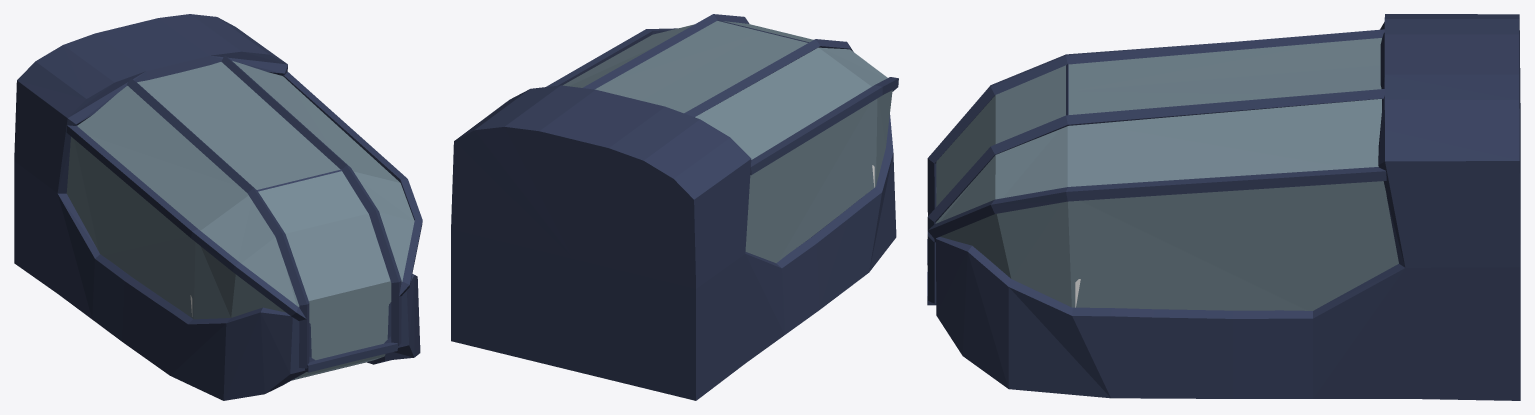
The model's file is cockpit4.glb.
3 views of the same model, side by side, from view 1: azimuth 30°, elevation 25°; view 2: azimuth 150°, elevation 25°; view 3: azimuth 270°, elevation 25° (orthographic). The views are drawn at different scales.
Visible parts, largest first — view 1: Group1.002, Group.002; view 2: Group.002, Group1.002; view 3: Group.002, Group1.002.
Part boxes in pixels (x1,y1,x2,y2): Group1.002: [66, 61, 414, 380]; Group.002: [14, 14, 422, 400]; Group.002: [451, 14, 898, 400]; Group1.002: [562, 21, 892, 262]; Group.002: [927, 14, 1520, 400]; Group1.002: [935, 38, 1398, 310].
Size of the model in its own units: 3.87 by 3.42 by 6.69.
